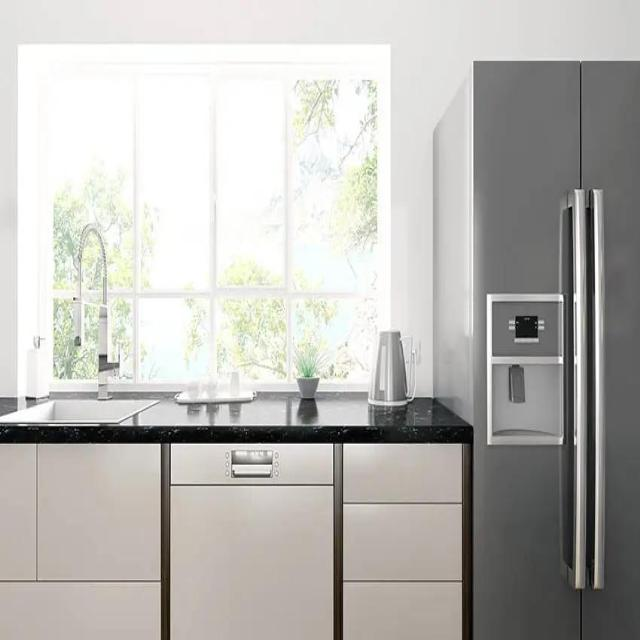dishwasher: (166, 440, 336, 640)
